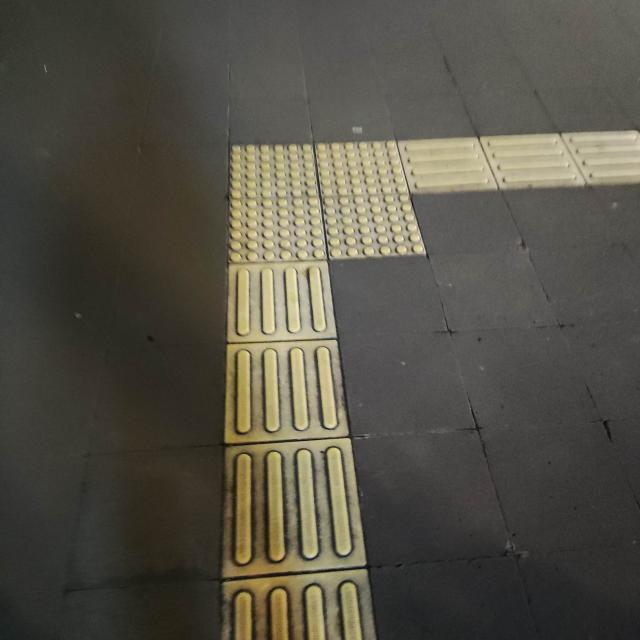kanan: (177, 96, 562, 338)
